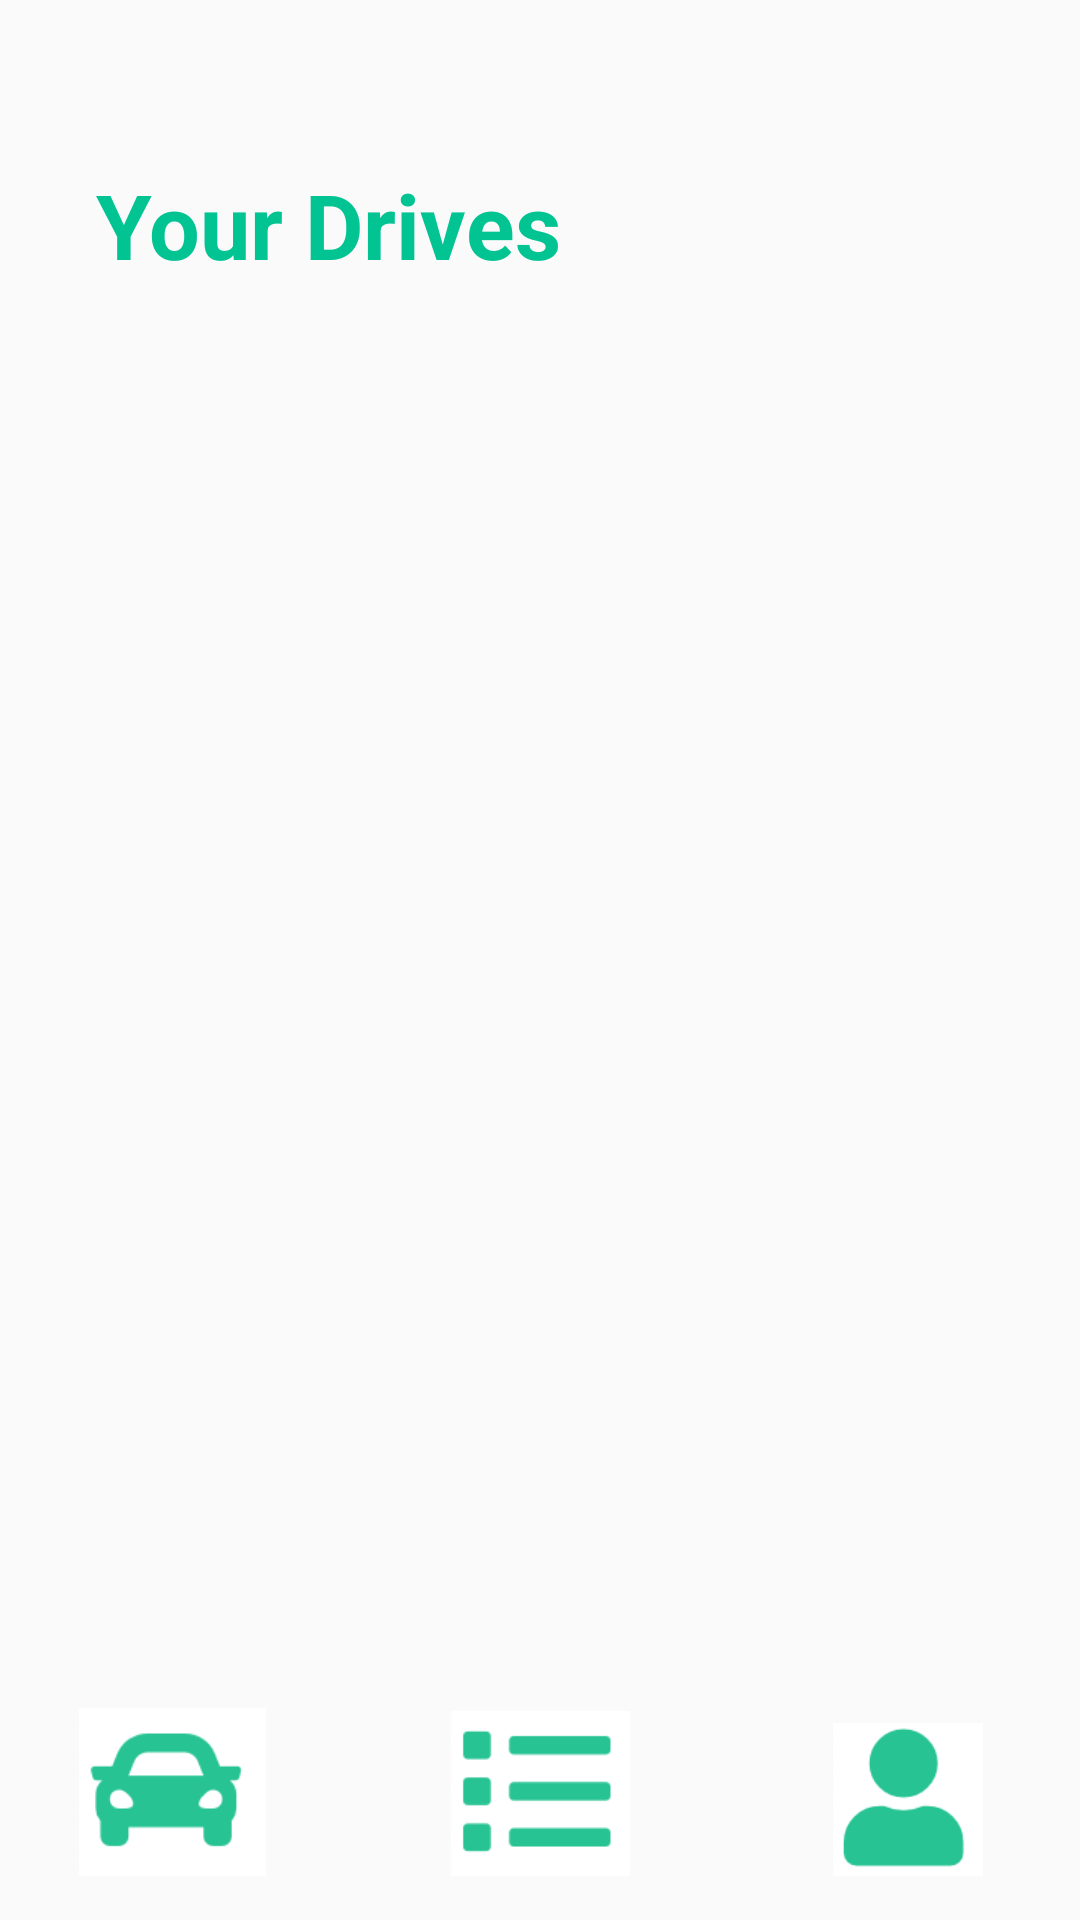

Screen size 1080 × 1920. Icon name, then its box in pixels as (x1, y1, x2, y2):
car: (90, 1733, 242, 1847)
list: (463, 1731, 611, 1852)
user: (843, 1728, 964, 1867)
